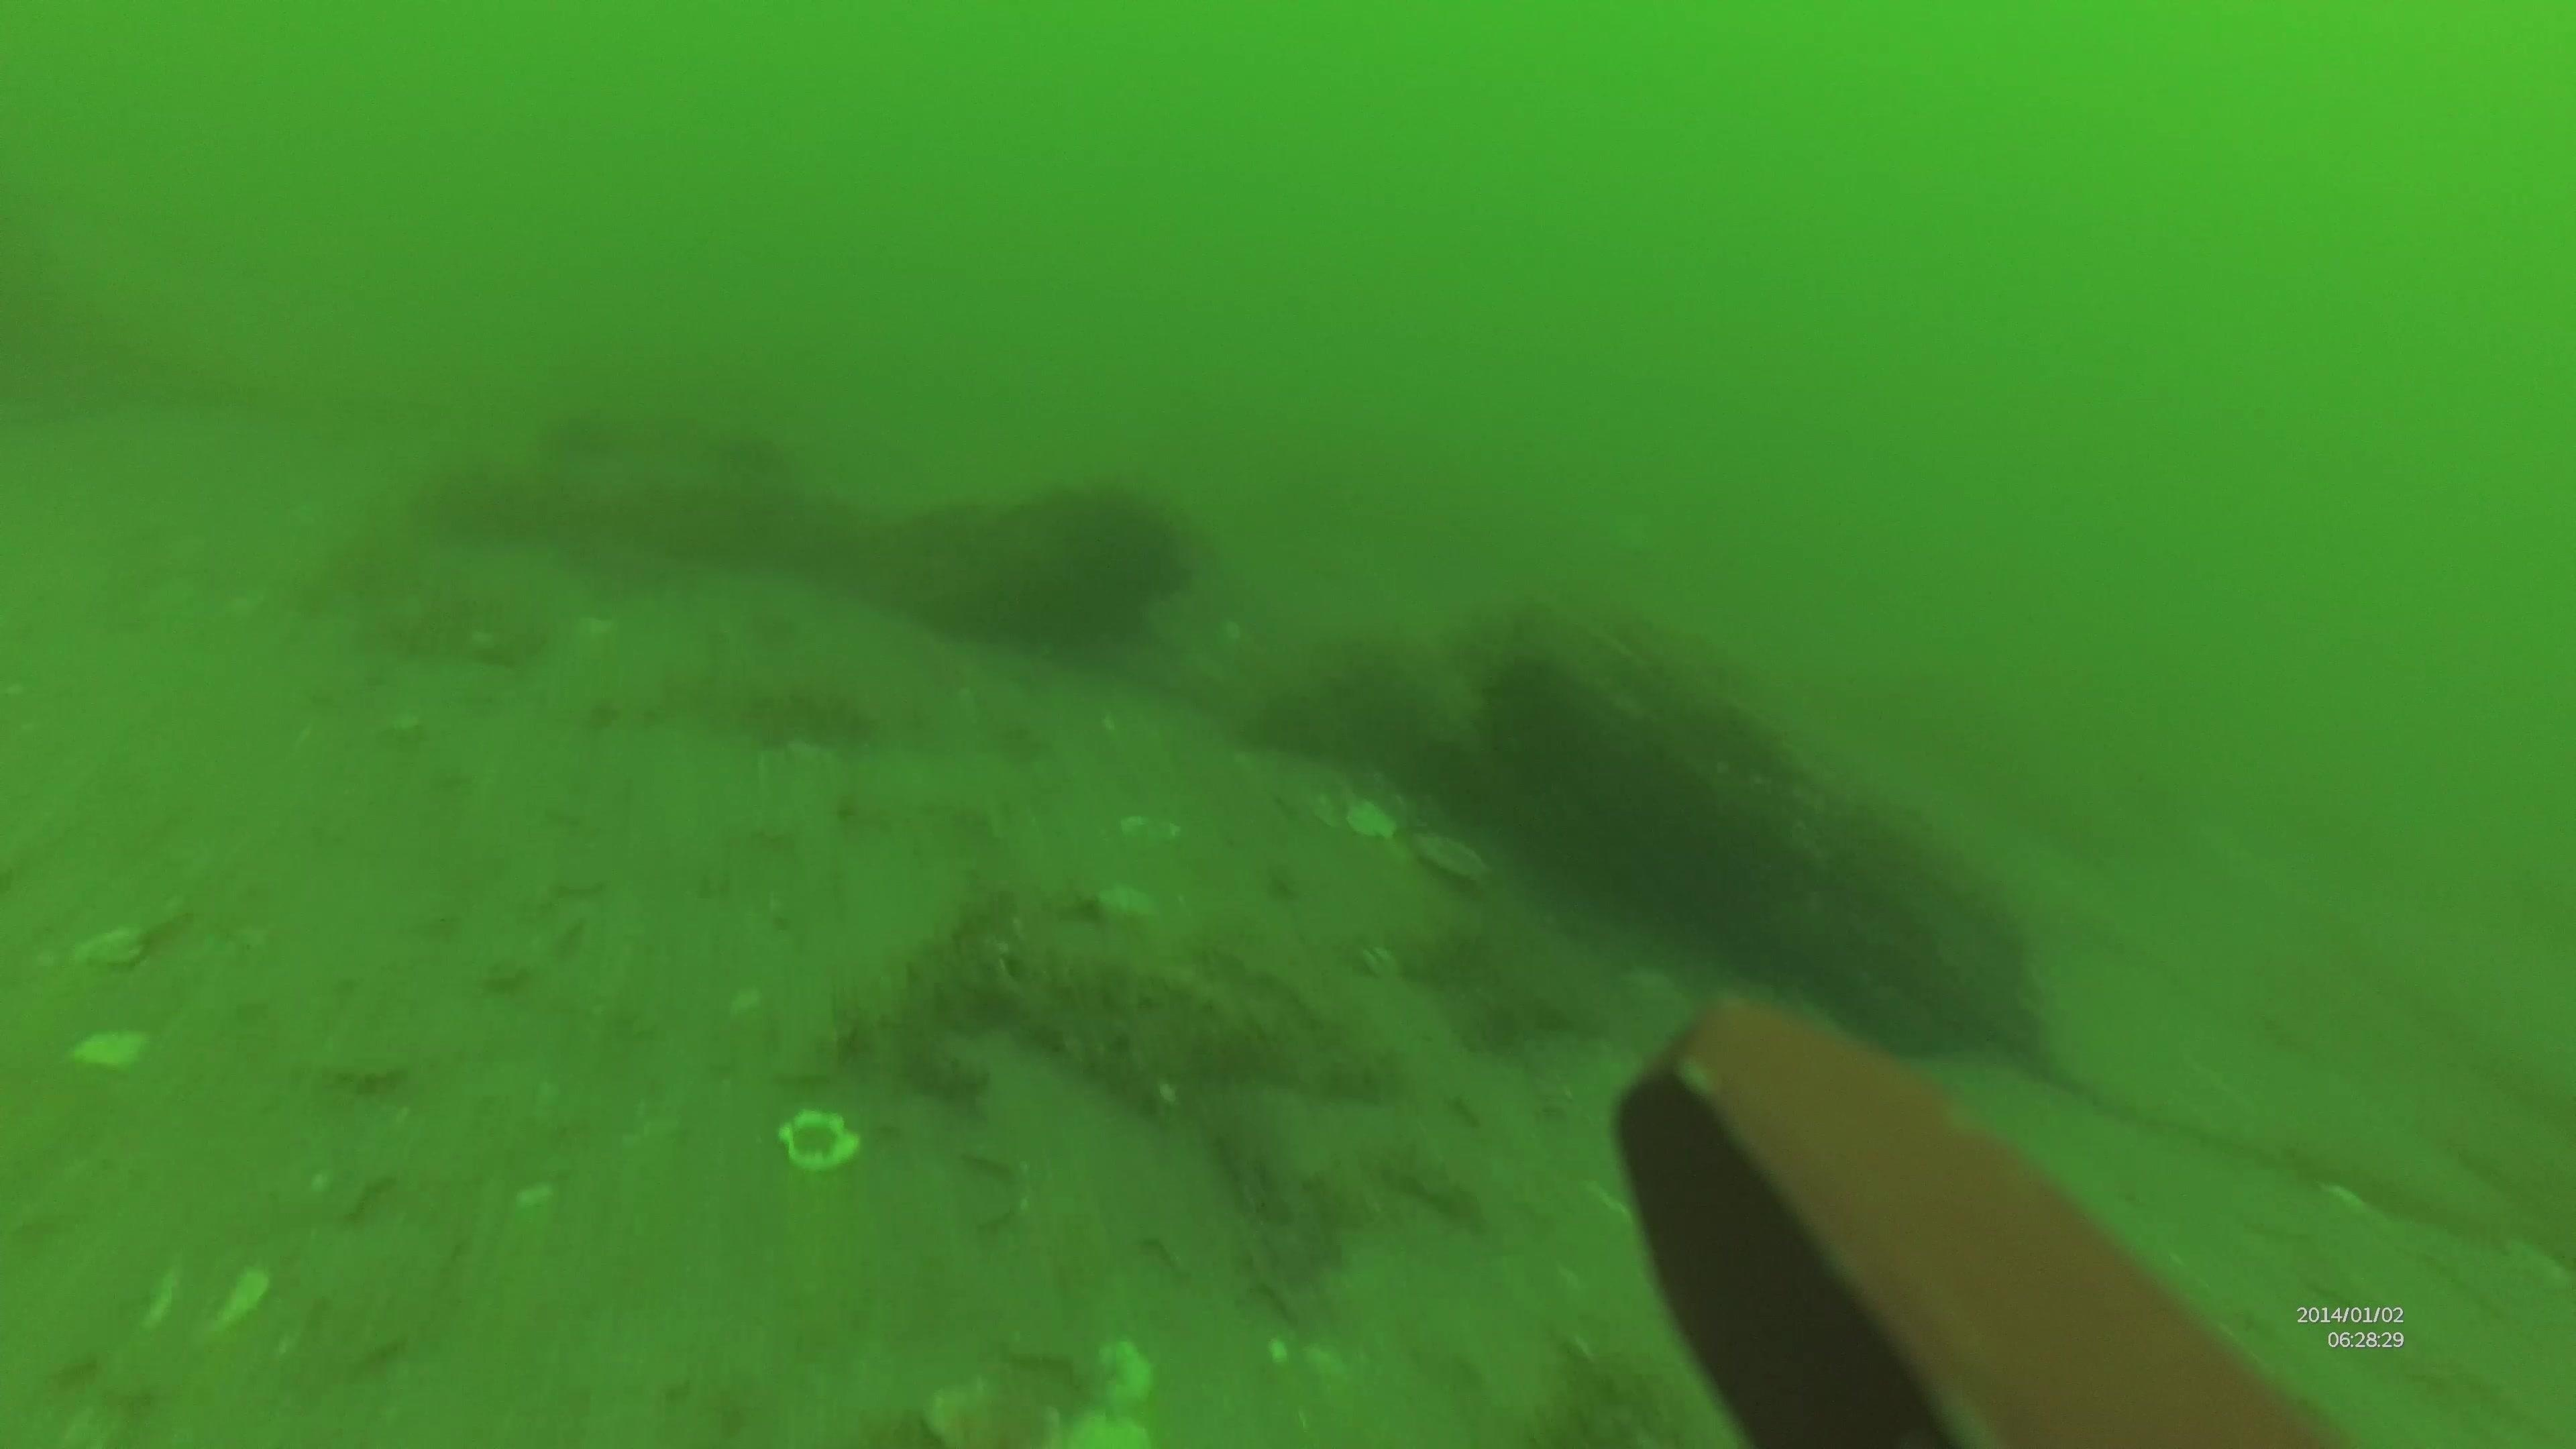holothurian: (927, 929, 1396, 1118)
